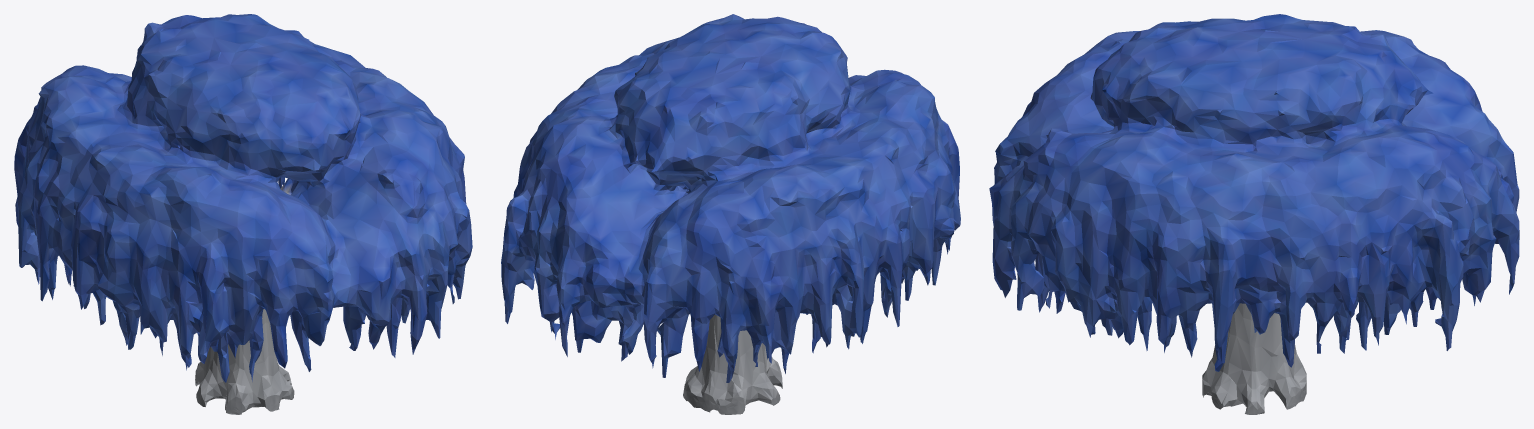
The model's file is moonwillow_tree.glb.
3 renders of one model, left to right at view 1: azimuth 30°, elevation 25°; view 2: azimuth 150°, elevation 25°; view 3: azimuth 270°, elevation 25°, orthographic. The views are drawn at different scales.
Parts seen in each view (by area): view 1: world; view 2: world; view 3: world.
Part boxes in pixels (<box>): world: <box>14,14,472,414</box>; world: <box>501,14,960,414</box>; world: <box>989,14,1519,414</box>.
Bounding box in the file's own units: 5.11 × 4.5 × 6.08.
